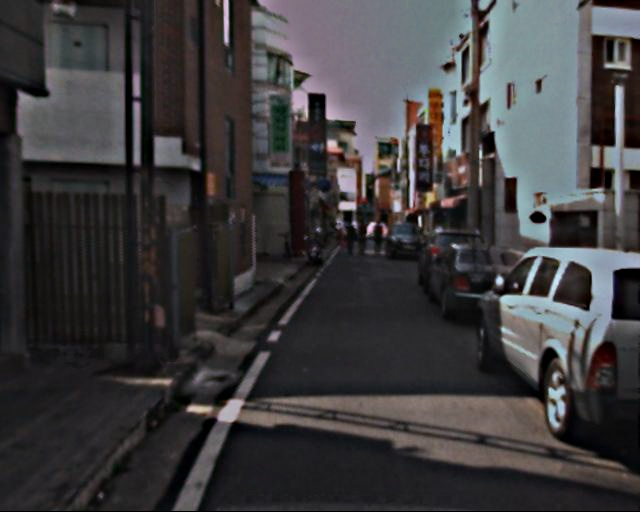person: (371, 220, 386, 257), (343, 223, 357, 258), (357, 224, 370, 256)
